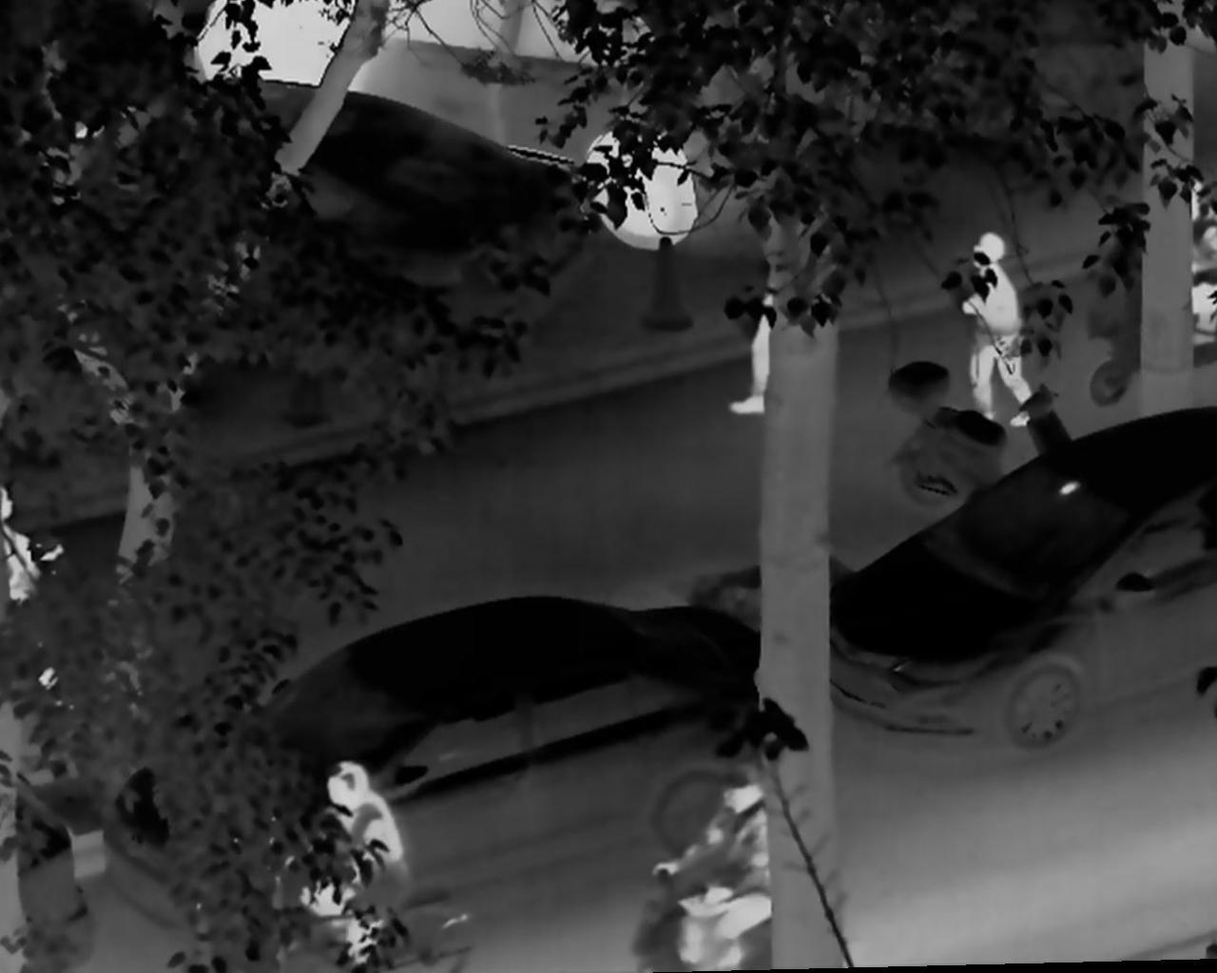person: (284, 759, 415, 973), (650, 762, 778, 973), (946, 231, 1041, 446), (1165, 171, 1217, 334), (727, 266, 779, 425)
